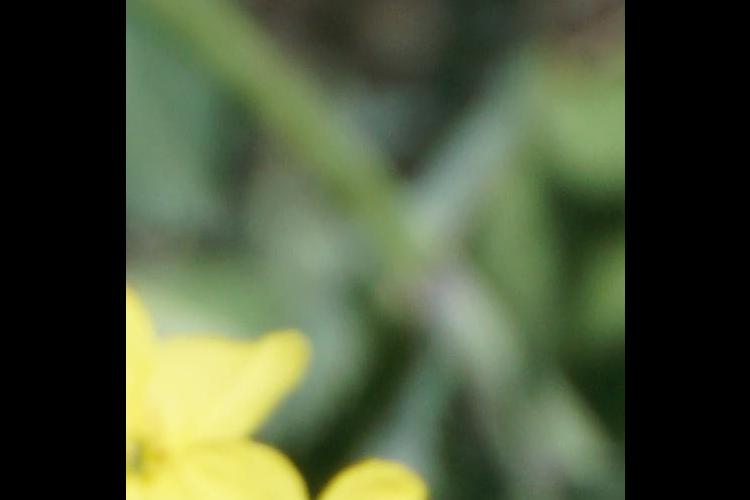yellow: (129, 294, 315, 500), (213, 456, 449, 500)
